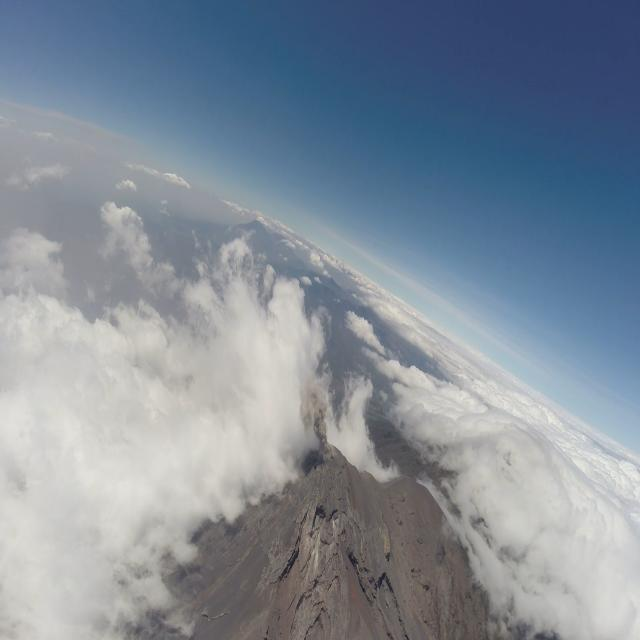Plume: (296, 371, 334, 452)
Summit: (281, 433, 406, 603)
